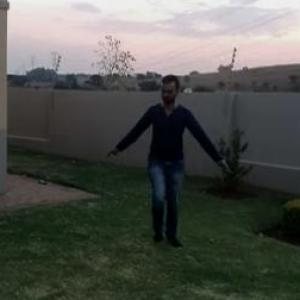land: (110, 63, 238, 269)
